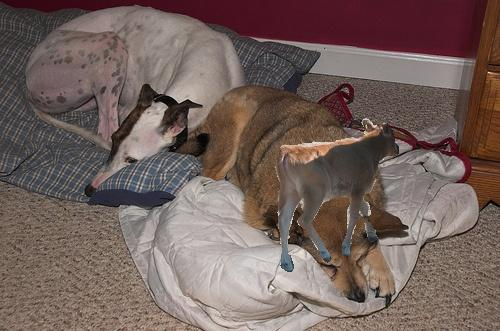tampered: (276, 119, 399, 272)
